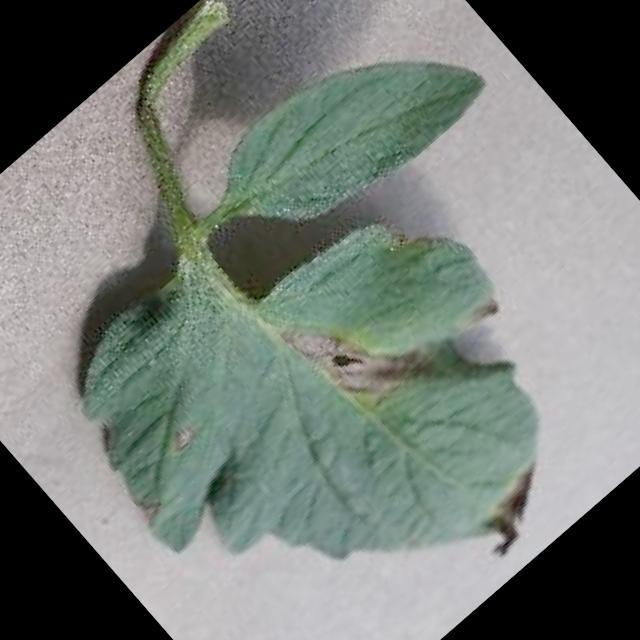Tomato Early blight leaf: (21, 111, 633, 640)
